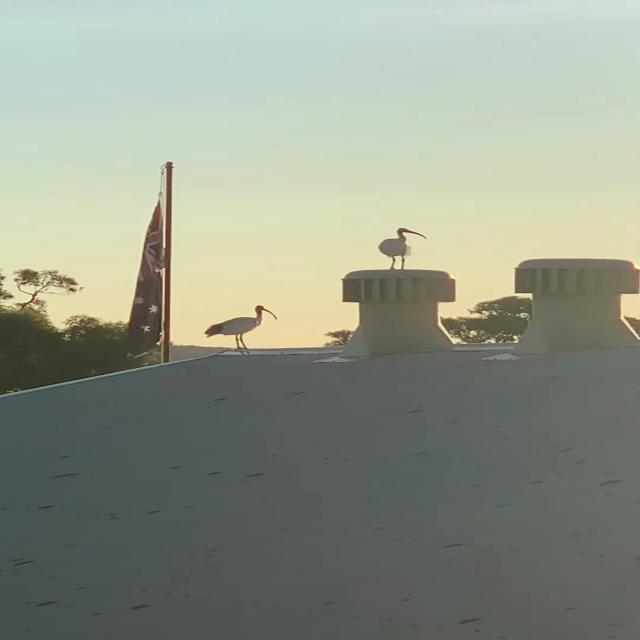Birds-Ibis: (202, 303, 280, 356), (376, 225, 430, 272)
